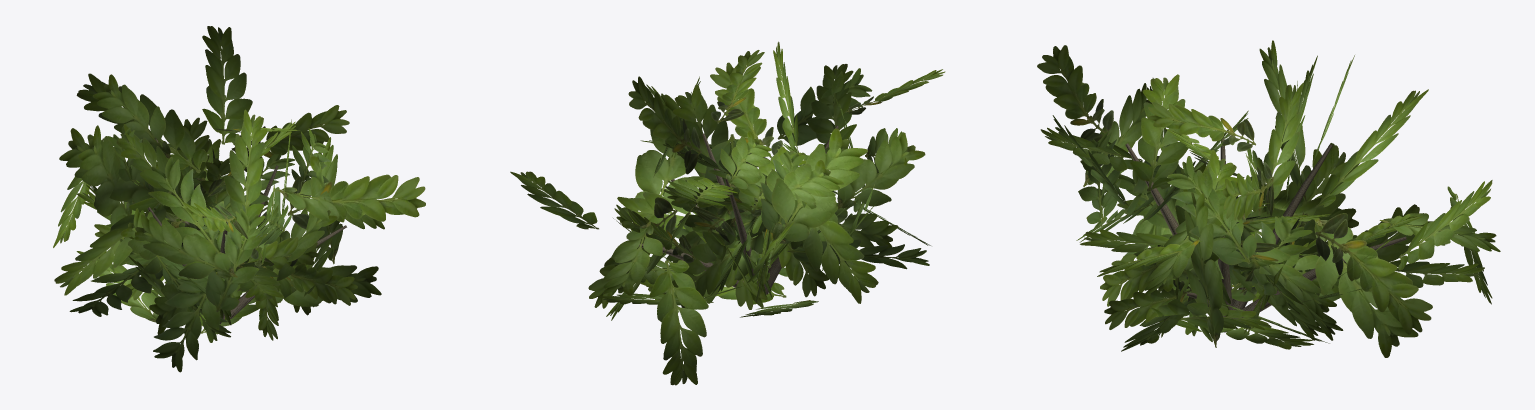
File: bush_round.glb
3 views of the same model, side by side, from view 1: azimuth 30°, elevation 25°; view 2: azimuth 150°, elevation 25°; view 3: azimuth 270°, elevation 25° (orthographic). The views are drawn at different scales.
Visible parts, largest first — view 1: plant; view 2: plant; view 3: plant.
Part boxes in pixels (x1,y1,x2,y2): plant: [53, 26, 425, 372]; plant: [510, 41, 945, 385]; plant: [1037, 40, 1500, 357].
Bounding box in the file's own units: 1.66 × 1.08 × 1.85.
Materials: 2 (2 with a texture image).
